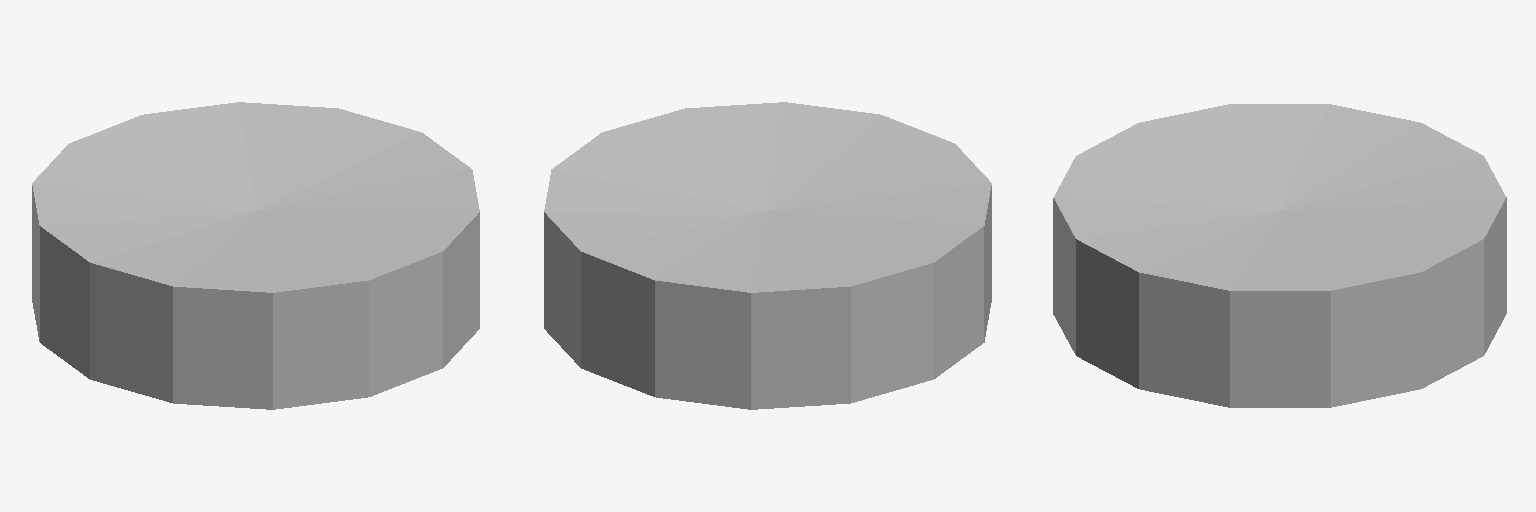
File: dameSteinNeu.obj
3 views of the same model, side by side, from view 1: azimuth 30°, elevation 25°; view 2: azimuth 150°, elevation 25°; view 3: azimuth 270°, elevation 25° (orthographic).
Visible parts, largest first — view 1: 01_Props.000_Cube.007; view 2: 01_Props.000_Cube.007; view 3: 01_Props.000_Cube.007.
Part boxes in pixels (bbox=[...]): 01_Props.000_Cube.007: bbox=[32, 102, 479, 409]; 01_Props.000_Cube.007: bbox=[544, 102, 991, 409]; 01_Props.000_Cube.007: bbox=[1053, 104, 1506, 407].
Bounding box in the file's own units: 1.08 × 0.3166 × 1.11.